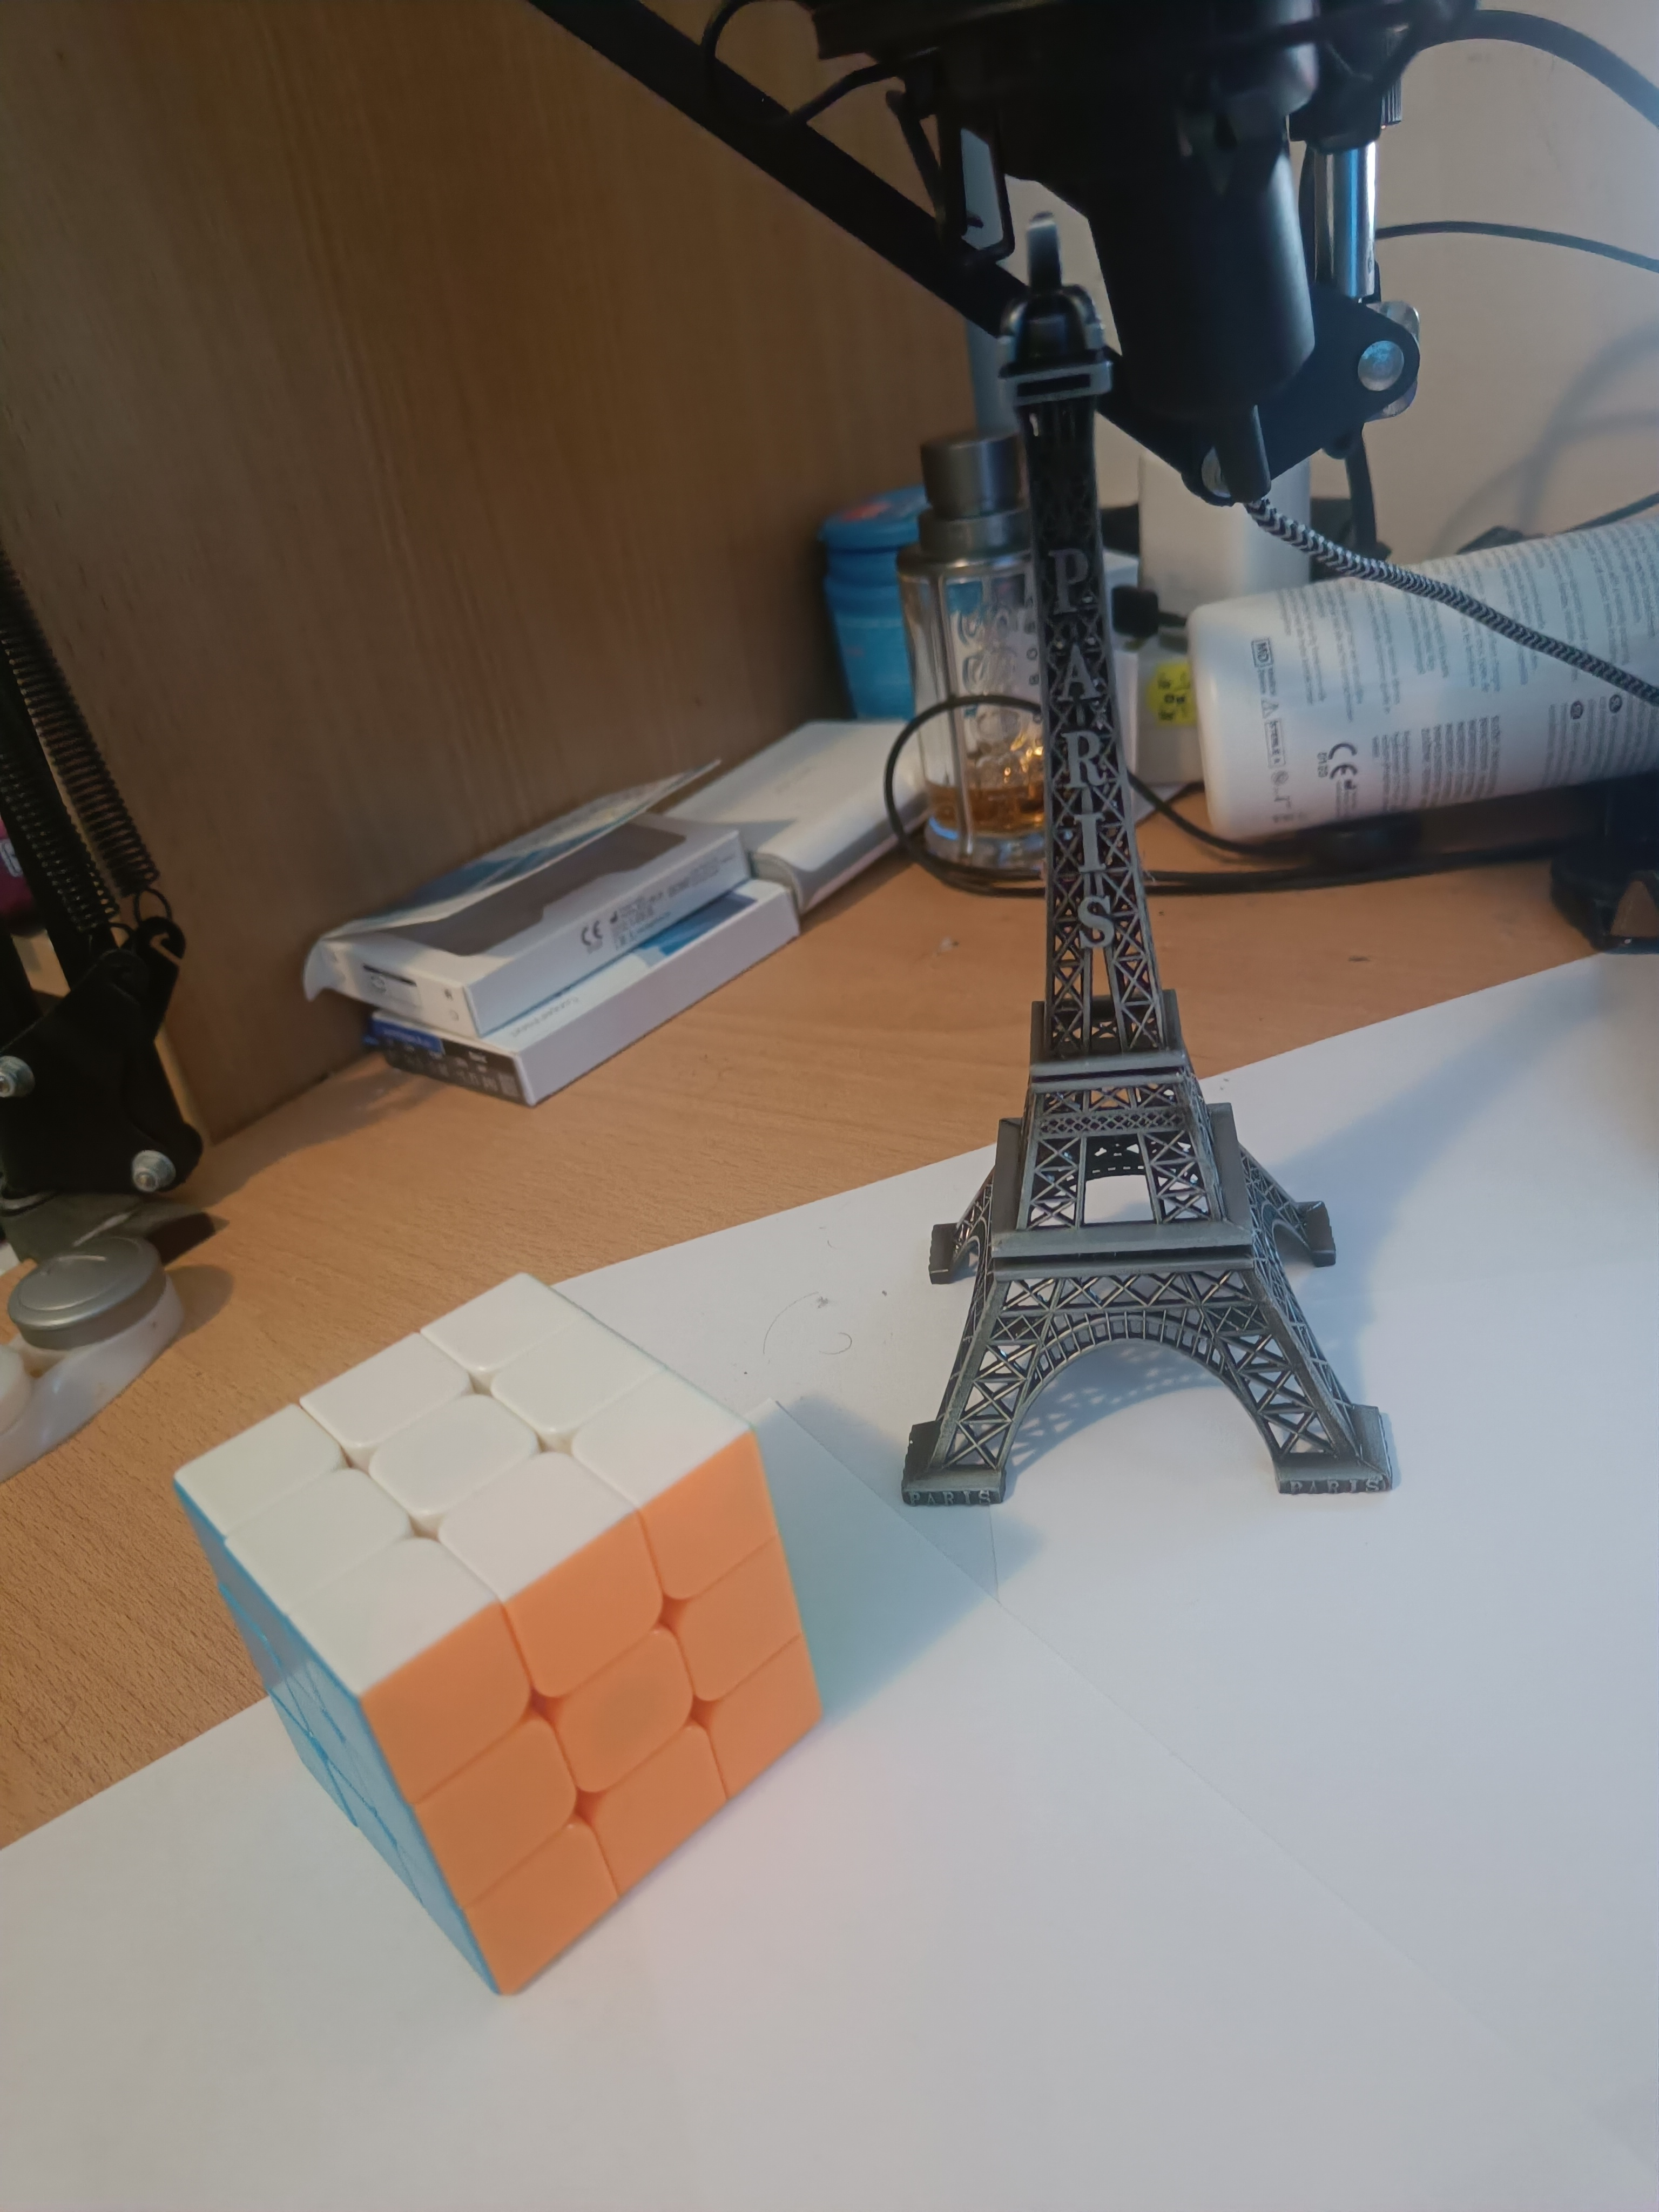Eiffel Tower: (849, 209, 1405, 1510)
Rubiks Cube: (157, 1254, 843, 2008)
